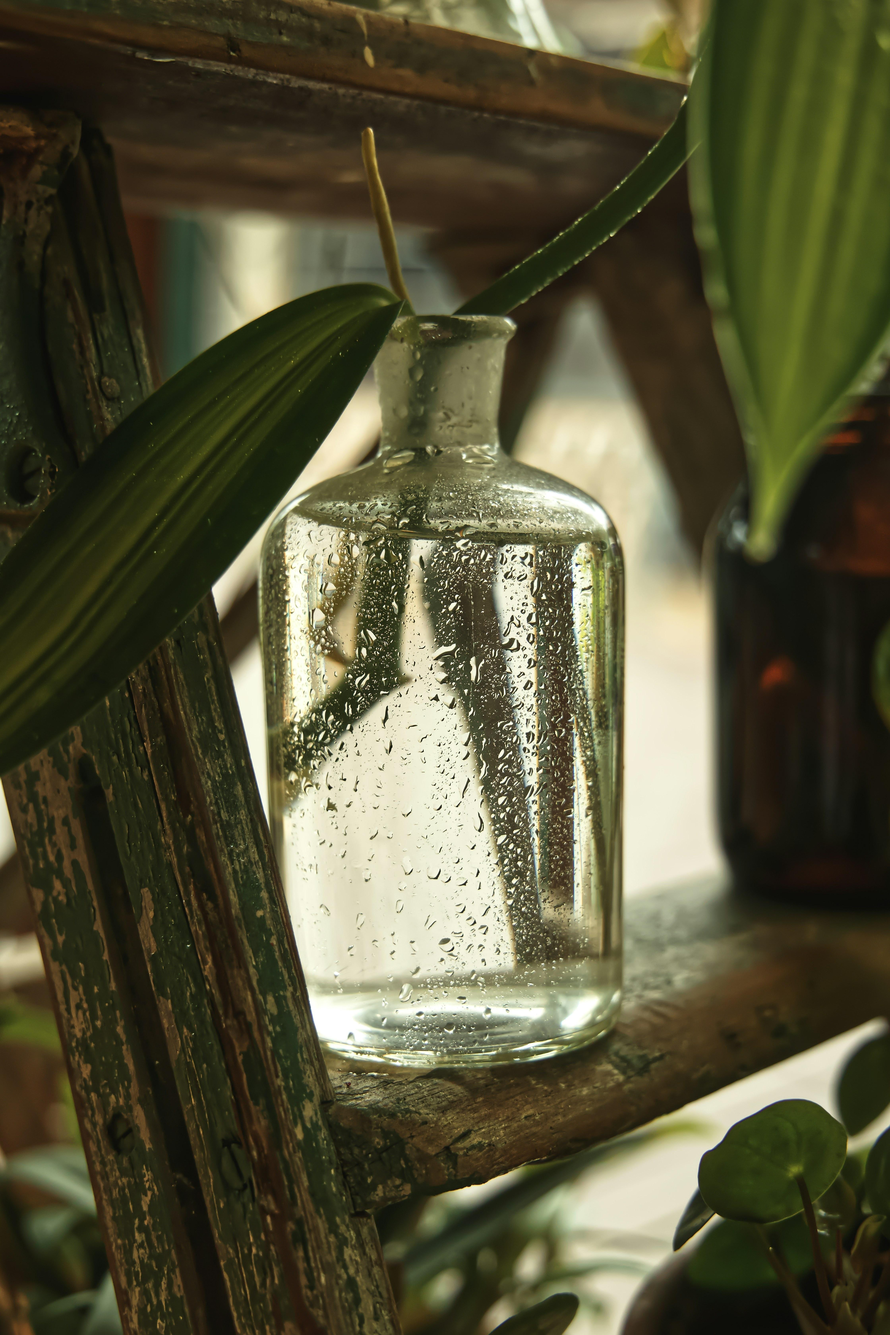Bottle-Detection: (221, 250, 681, 1118)
